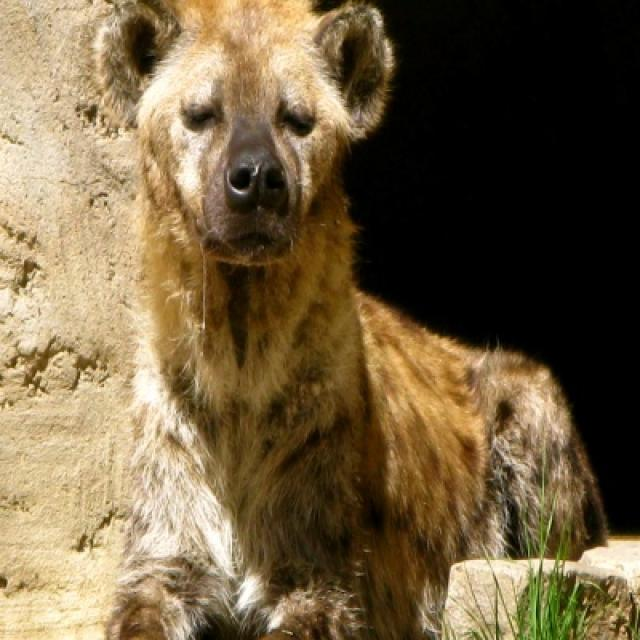hyena: (102, 0, 610, 638)
